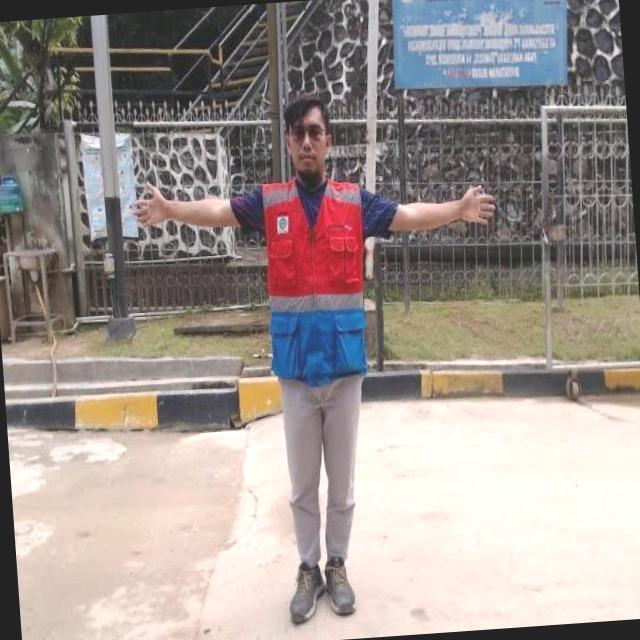vest: (255, 176, 374, 385)
